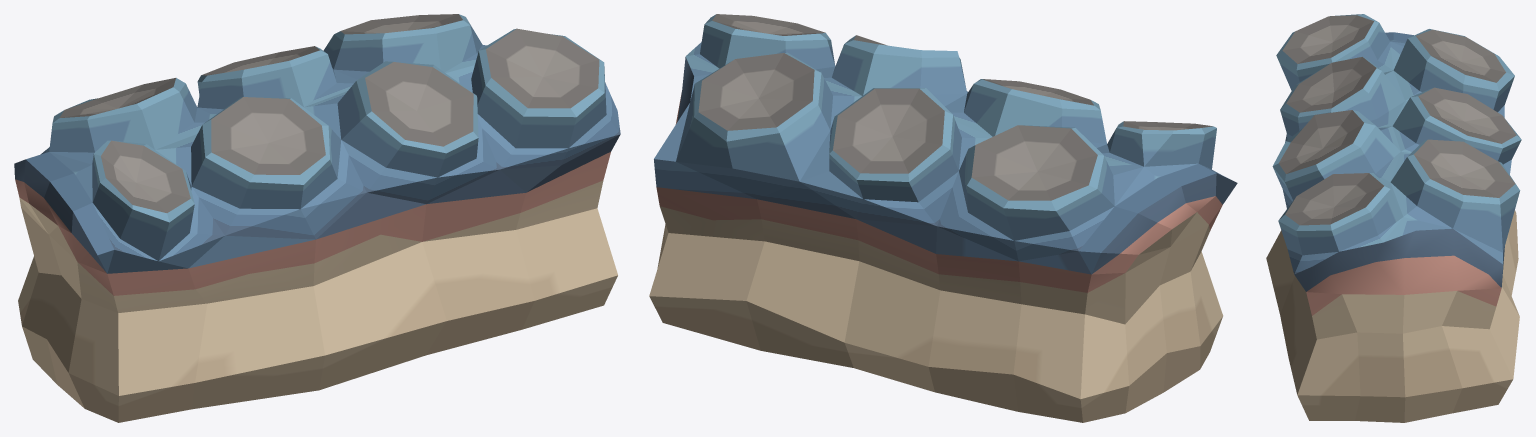
The model's file is SM_Prop_Food_Tentacle_02.fbx.
The picture shows the model from 3 angles, left to right: view 1: azimuth 30°, elevation 25°; view 2: azimuth 150°, elevation 25°; view 3: azimuth 270°, elevation 25°; orthographic projection. The views are drawn at different scales.
Parts seen in each view (by area): view 1: SM_Prop_Food_Tentacle_02; view 2: SM_Prop_Food_Tentacle_02; view 3: SM_Prop_Food_Tentacle_02.
Boxes of the visible parts, x1=… form: SM_Prop_Food_Tentacle_02: x1=14, y1=14, x2=620, y2=422; SM_Prop_Food_Tentacle_02: x1=649, y1=14, x2=1237, y2=422; SM_Prop_Food_Tentacle_02: x1=1266, y1=14, x2=1521, y2=422.
Size of the model in its own units: 25.27 by 12.02 by 12.41.
